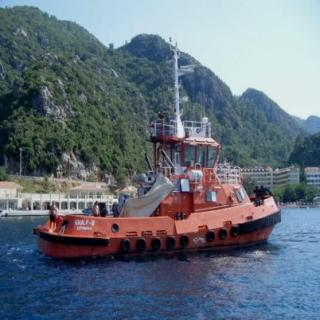Tug Boat: (27, 81, 279, 256)
